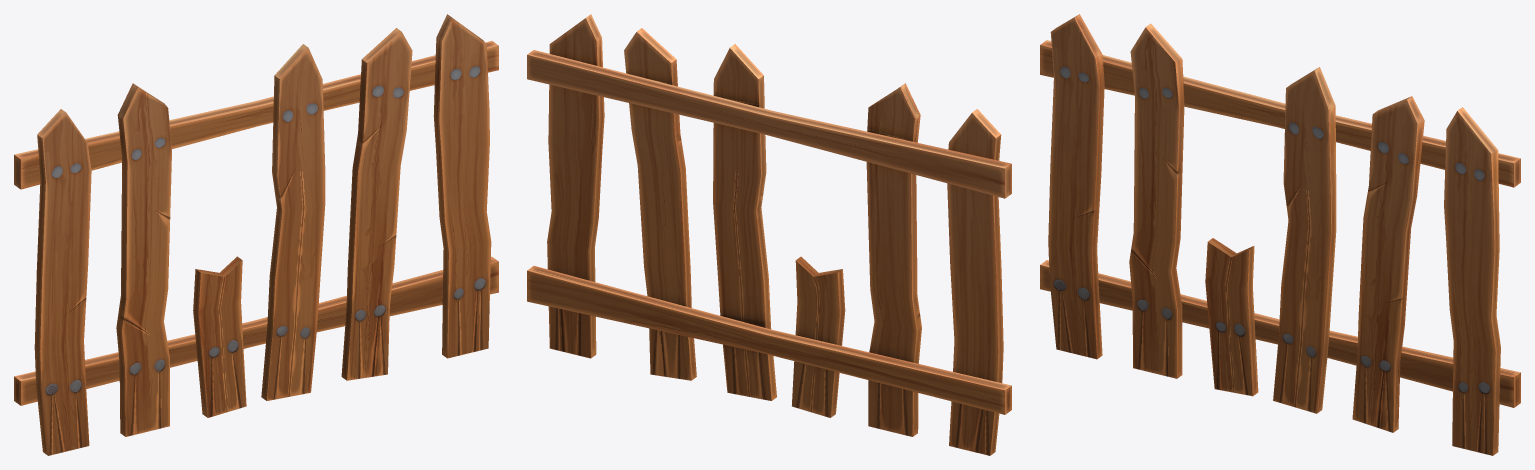
File: Fences02_3.FBX
3 renders of one model, left to right at view 1: azimuth 30°, elevation 25°; view 2: azimuth 150°, elevation 25°; view 3: azimuth 330°, elevation 25°, orthographic.
Parts seen in each view (by area): view 1: Fences02_3; view 2: Fences02_3; view 3: Fences02_3.
Boxes of the visible parts, x1,y1,x2,y2 form: Fences02_3: (14, 14, 498, 455); Fences02_3: (527, 14, 1011, 455); Fences02_3: (1040, 14, 1520, 455).
Size of what is drawn, in the model's own units: 1.75 by 1.22 by 0.078.
